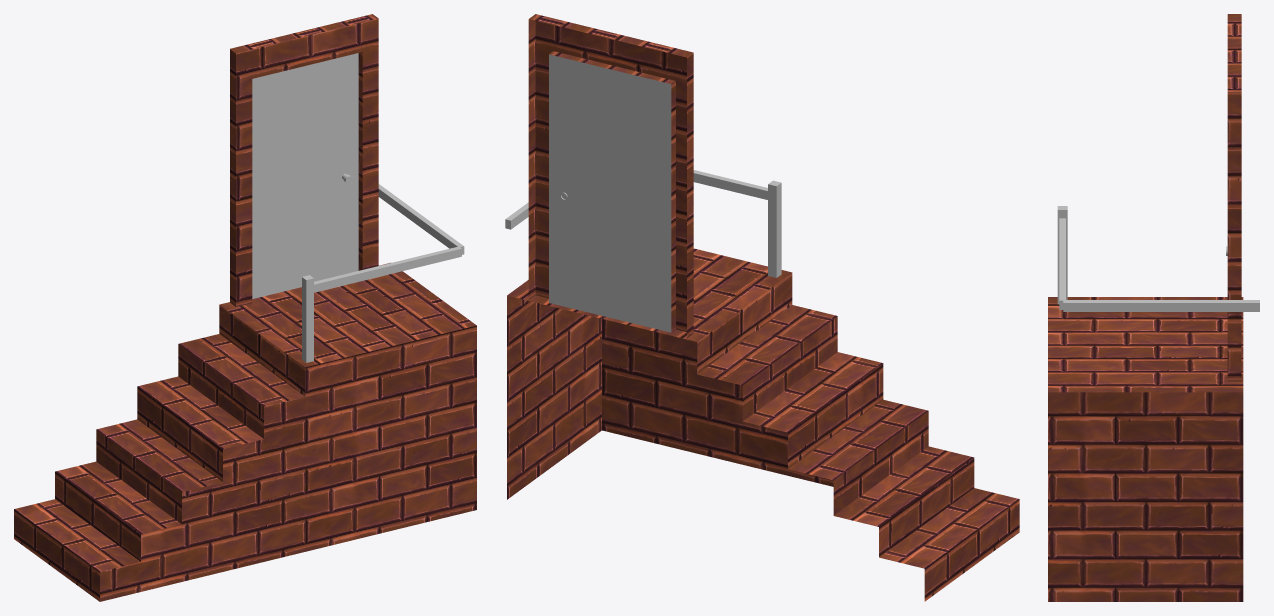
Rendered from SM_DoorStairs.fbx.
3 views of the same model, side by side, from view 1: azimuth 30°, elevation 25°; view 2: azimuth 150°, elevation 25°; view 3: azimuth 270°, elevation 25° (orthographic). The views are drawn at different scales.
Visible parts, largest first — view 1: polySurface174, polySurface175, polySurface177, polySurface176, polySurface179; view 2: polySurface174, polySurface175, polySurface179, polySurface177; view 3: polySurface174, polySurface175, polySurface176, polySurface177, polySurface179.
Part boxes in pixels (x1=…): polySurface174: x1=14, y1=262, x2=476, y2=601; polySurface175: x1=230, y1=14, x2=378, y2=306; polySurface177: x1=314, y1=246, x2=461, y2=292; polySurface176: x1=378, y1=184, x2=464, y2=254; polySurface179: x1=302, y1=275, x2=313, y2=362; polySurface174: x1=507, y1=248, x2=1019, y2=601; polySurface175: x1=528, y1=14, x2=693, y2=340; polySurface179: x1=768, y1=180, x2=781, y2=277; polySurface177: x1=693, y1=170, x2=767, y2=199; polySurface174: x1=1048, y1=297, x2=1243, y2=601; polySurface175: x1=1227, y1=14, x2=1241, y2=381; polySurface176: x1=1063, y1=300, x2=1259, y2=311; polySurface177: x1=1059, y1=218, x2=1065, y2=309; polySurface179: x1=1057, y1=206, x2=1067, y2=304.
Bounding box in the file's own units: 284 × 315 × 122.
